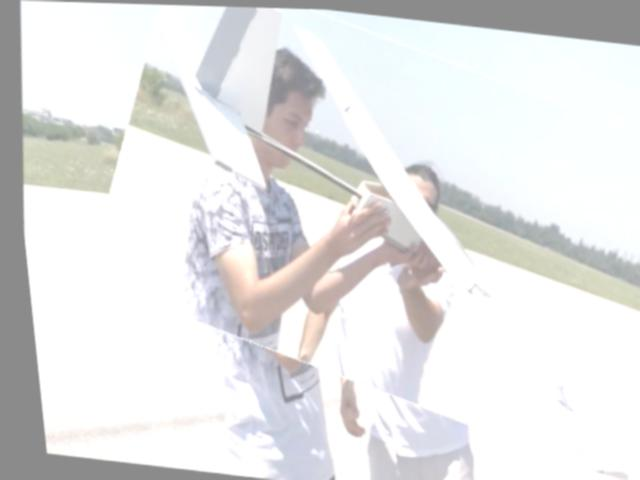insansiz-hava-araci: (65, 2, 640, 453)
